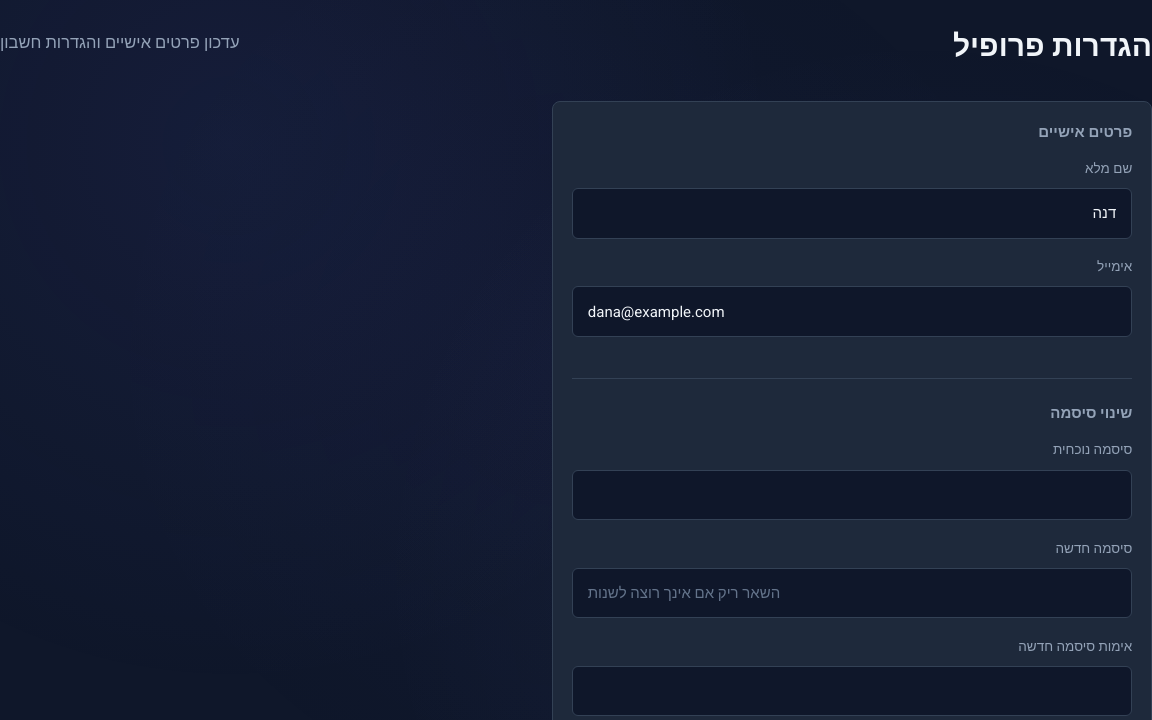
Test: Profile - password › changes the password with the current one and keeps this session with the fresh token
Expected: the heading "שינוי סיסמה" is shown, top-left (1050, 402), bottom-right (1132, 424)
In the password field labelled "סיסמה נוכחית": (852, 495) top-left (572, 470), bottom-right (1132, 520), type "old-pass"
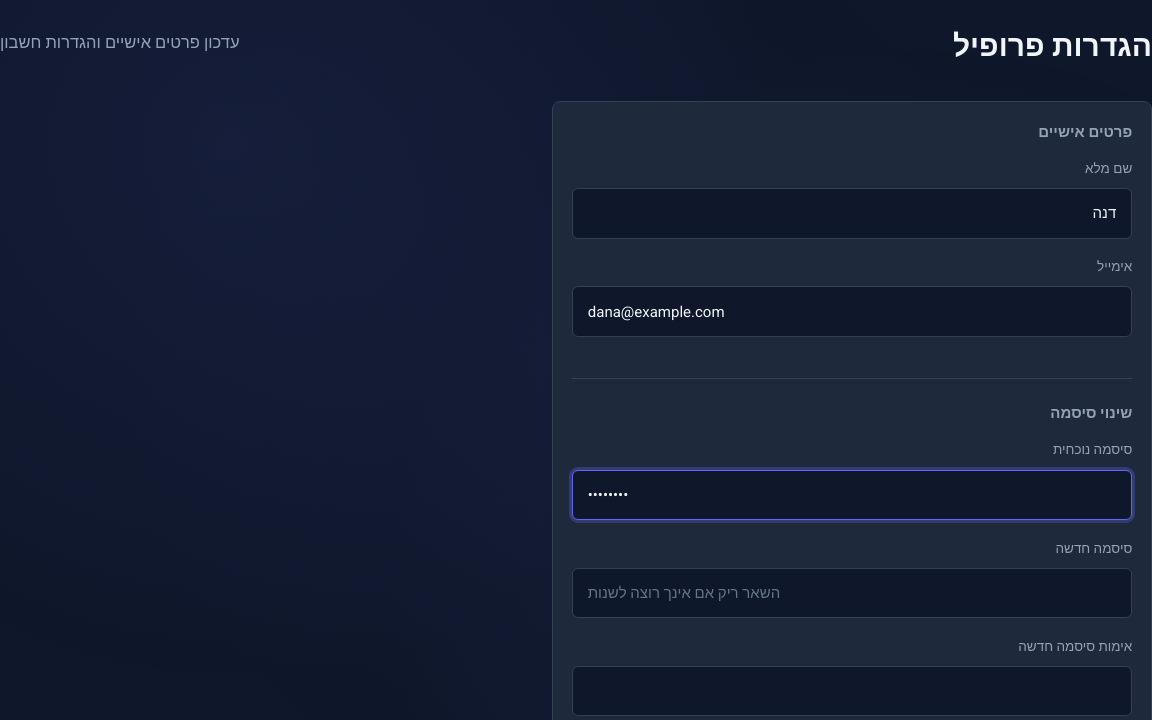
In the password field labelled "סיסמה חדשה": (852, 593) top-left (572, 568), bottom-right (1132, 618), type "new-pass1"
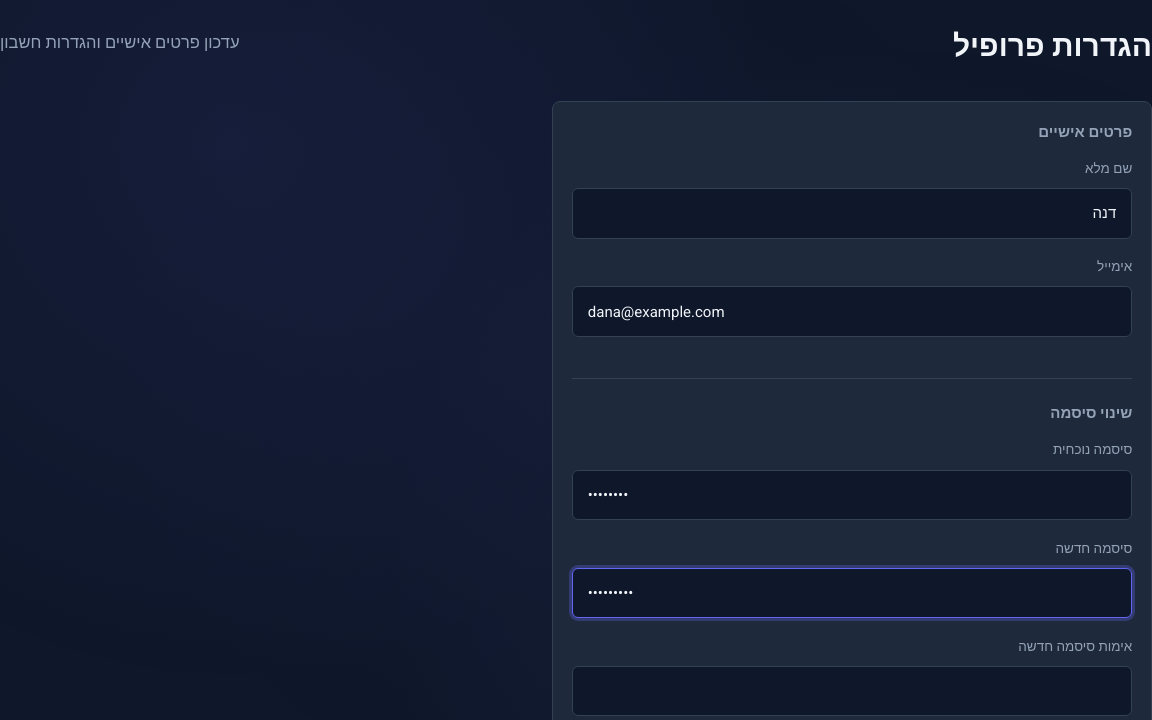
In the password field labelled "אימות סיסמה חדשה": (852, 691) top-left (572, 666), bottom-right (1132, 716), type "new-pass1"
(page scrolled)
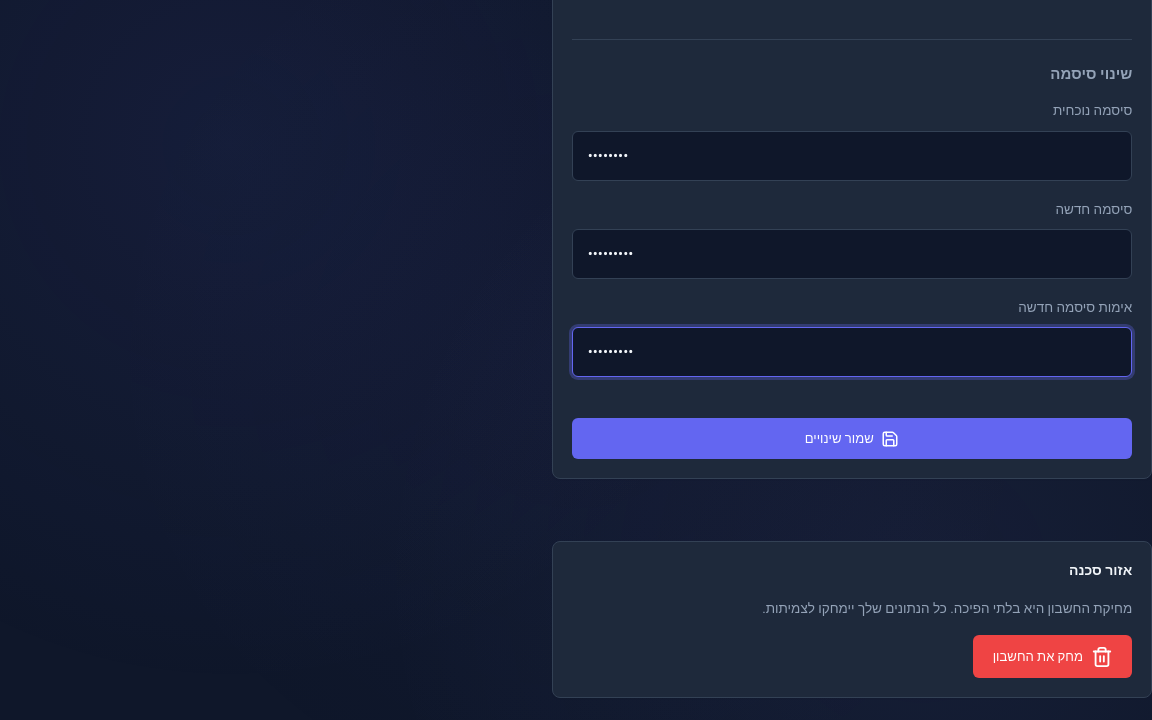
Click the button "שמור שינויים": (852, 439) top-left (572, 418), bottom-right (1132, 459)
(page scrolled)
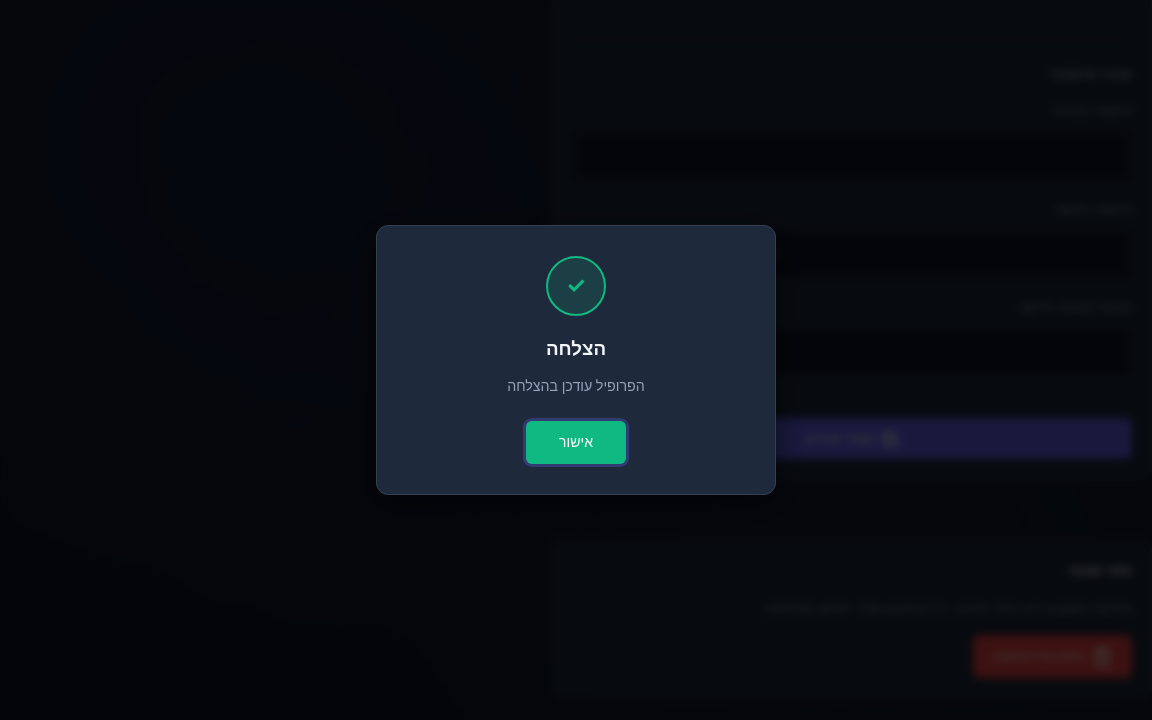
Expected: the text "הפרופיל עודכן בהצלחה" is shown, top-left (507, 376), bottom-right (645, 397)
